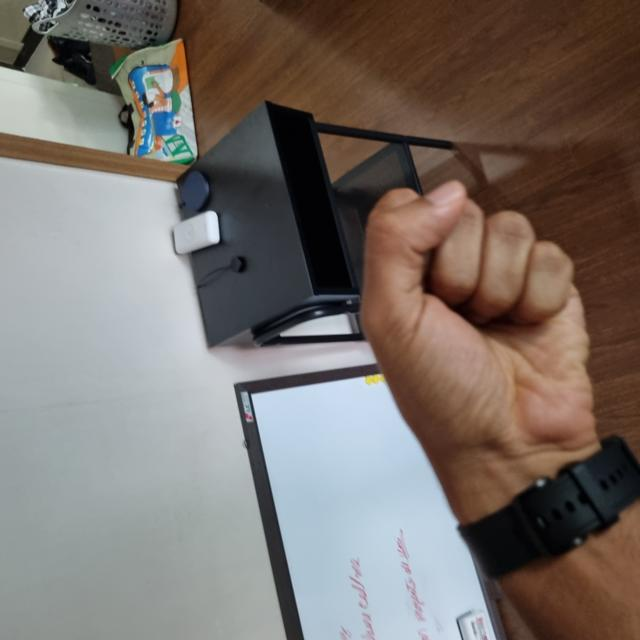Rock: (119, 360, 457, 594)
